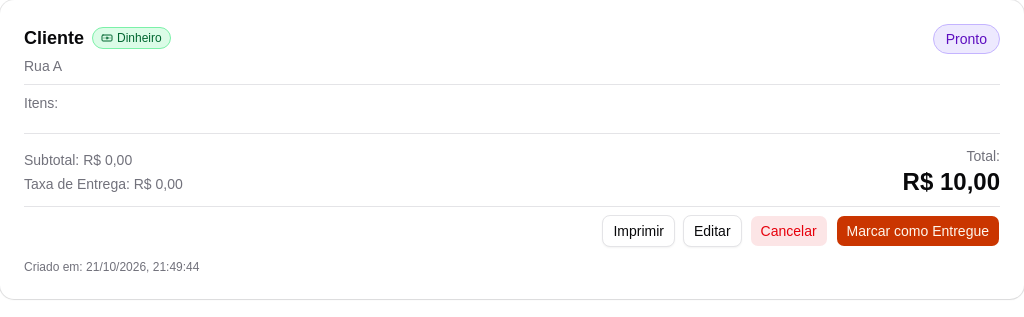
Scenario: OrderCard financial protections › prevents another delivery request while the first is in flight
This screenshot has width=1024, height=317.
Click the button "Marcar como Entregue" at (918, 231), box [836, 215, 1000, 247]
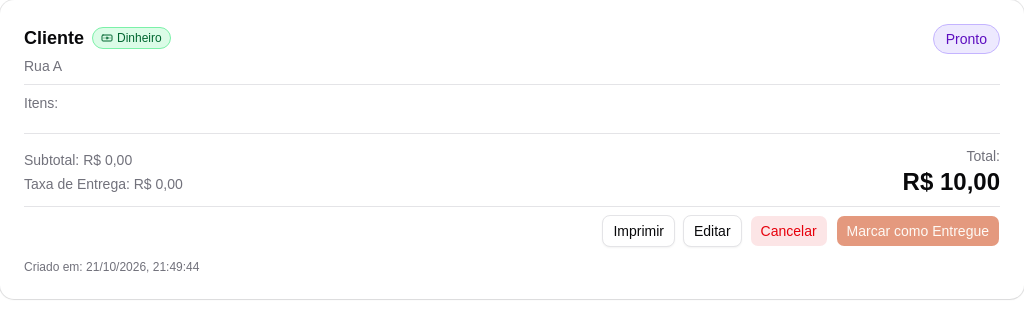
Check: the button "Marcar como Entregue" is disabled
Click the button "Marcar como Entregue" at (918, 231), box [836, 215, 1000, 247]
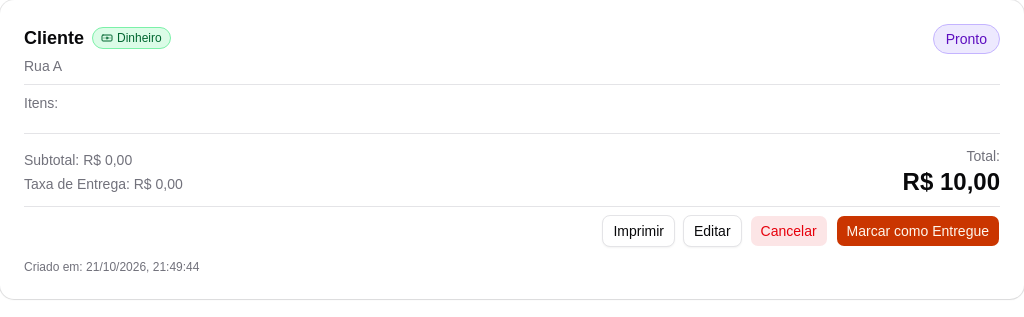
Check: the button "Marcar como Entregue" is enabled, box [836, 215, 1000, 247]
